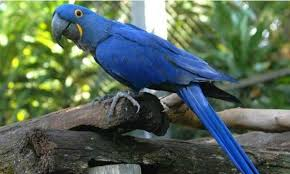guacamaya: (51, 3, 245, 122)
